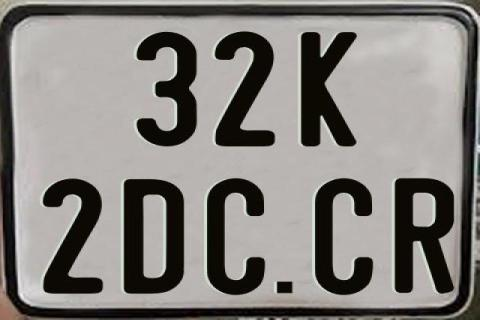0: (135, 29, 200, 145), (42, 178, 107, 294), (212, 30, 273, 148)
C: (312, 178, 373, 300), (205, 179, 267, 299)
D: (123, 178, 186, 298)
K: (300, 29, 357, 145)
R: (394, 178, 458, 298)
